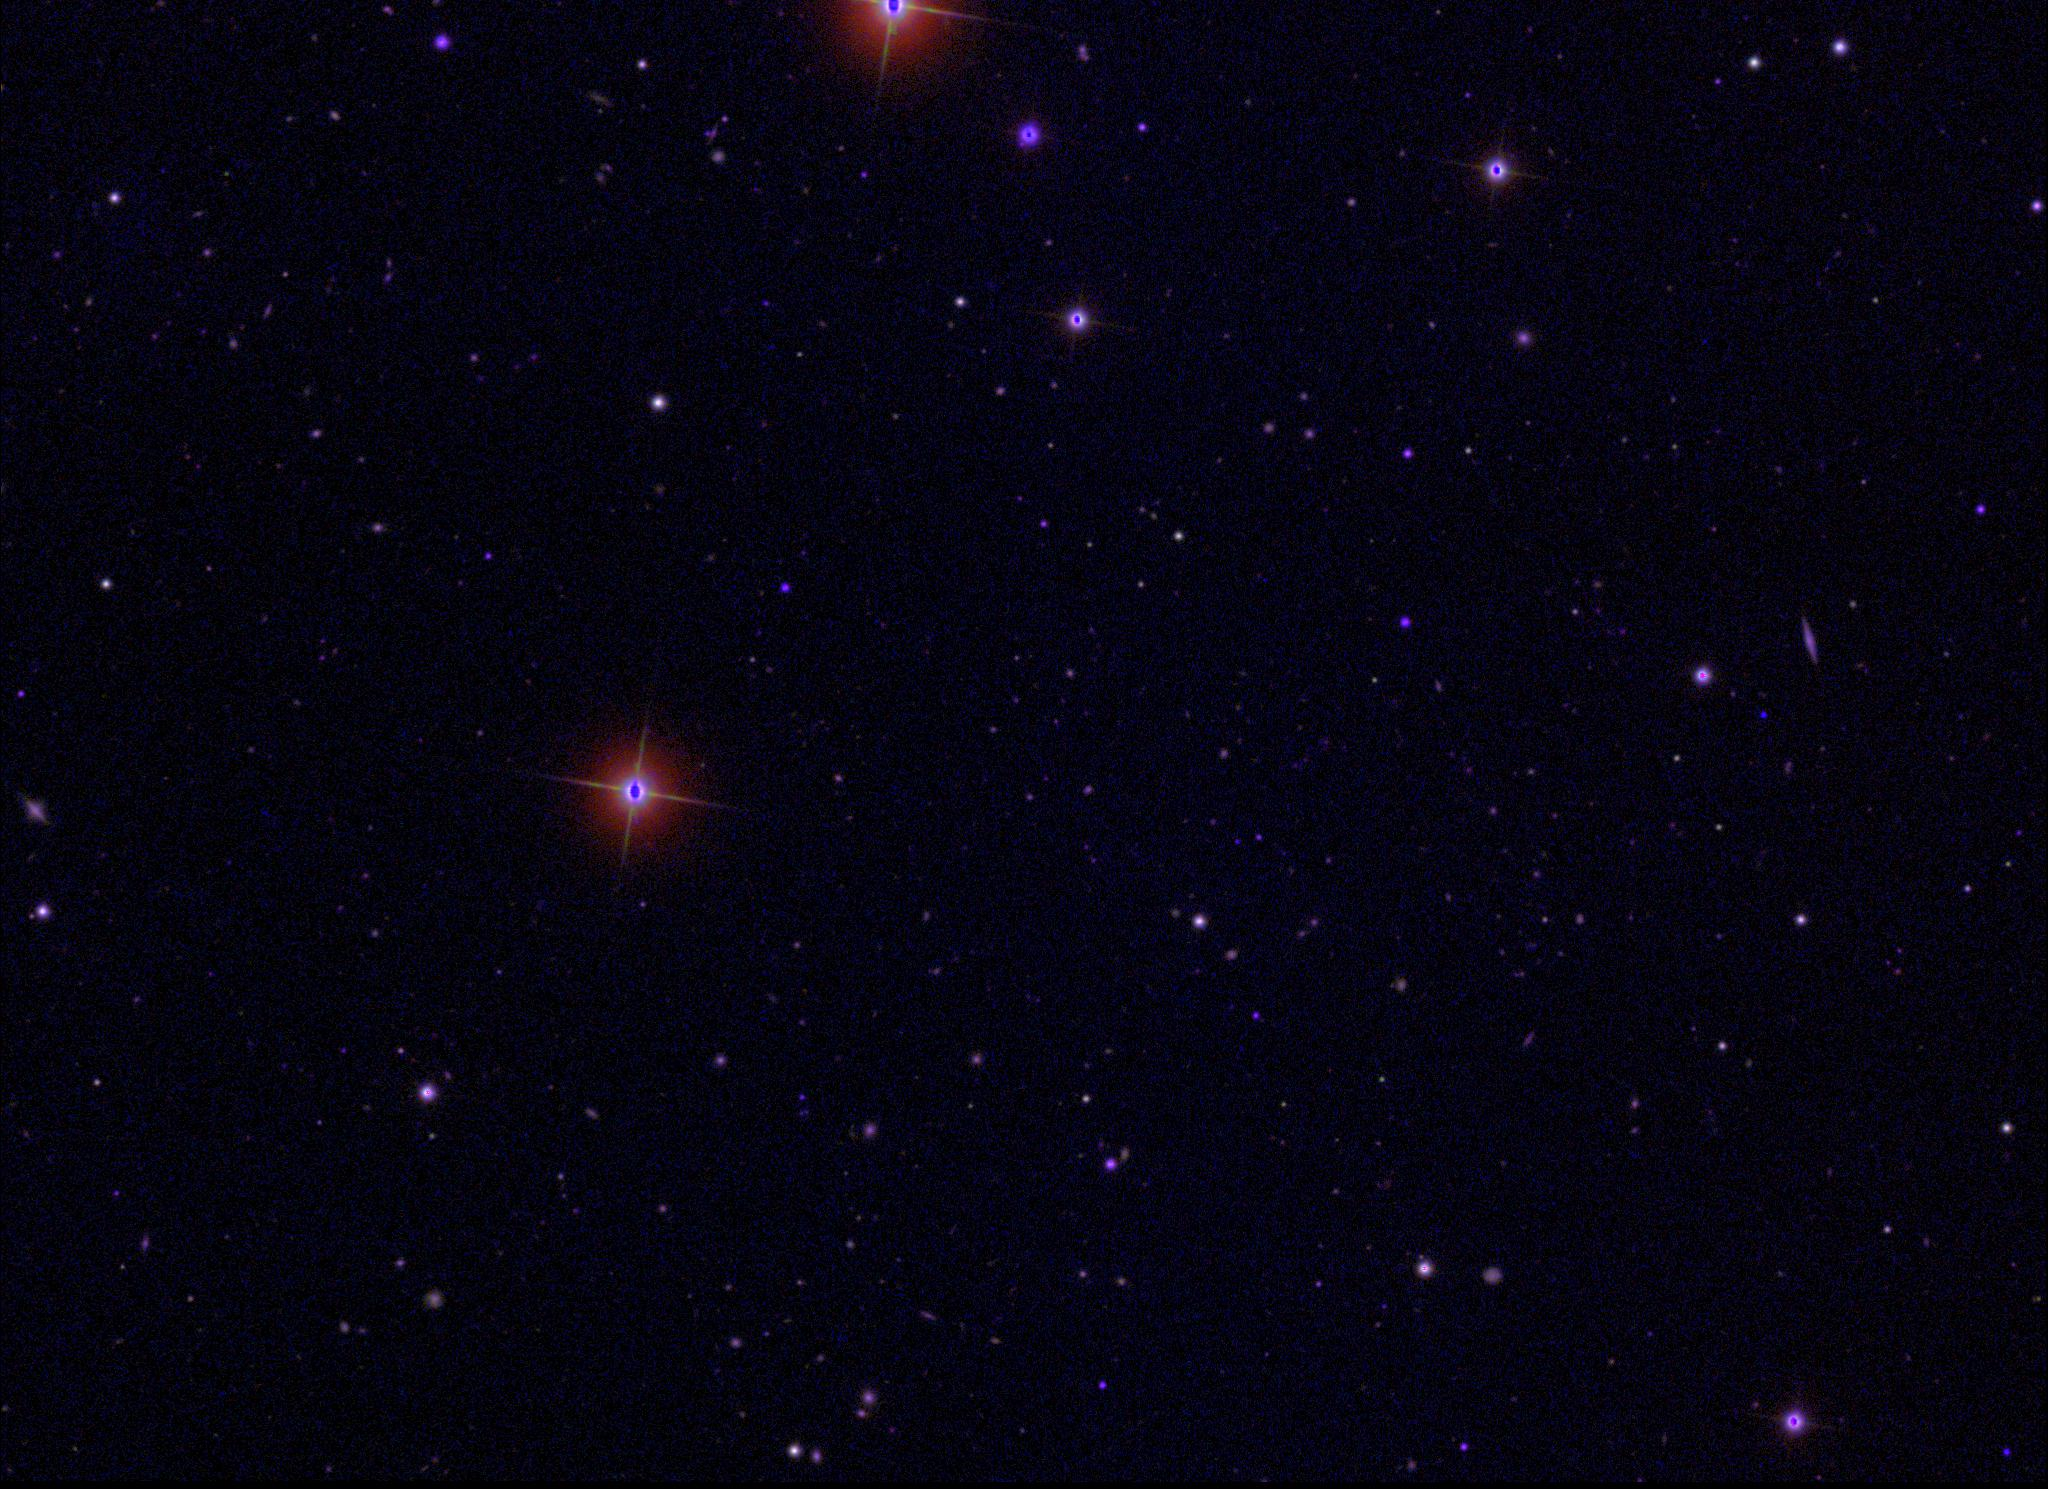L: (1759, 706, 1771, 721)
